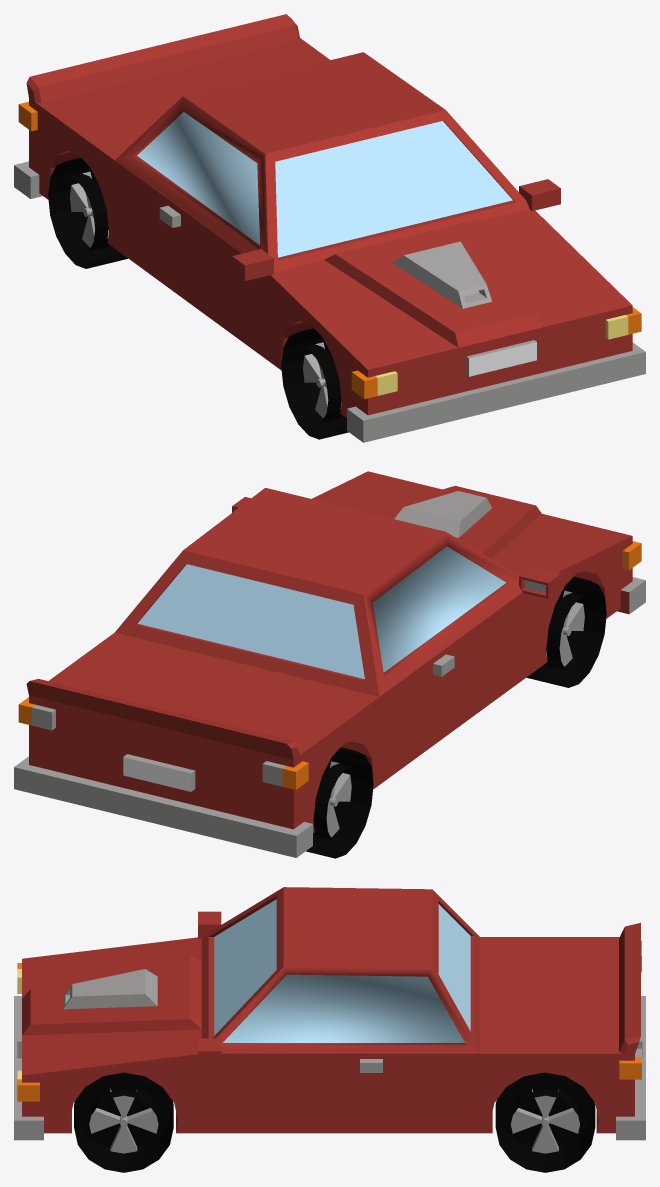
Rendered from vehicle.glb.
3 views of the same model, one above another, from view 1: azimuth 30°, elevation 25°; view 2: azimuth 150°, elevation 25°; view 3: azimuth 270°, elevation 25° (orthographic). The views are drawn at different scales.
Parts seen in each view (by area): view 1: chasis, wheel_back_right, wheel_front_right; view 2: chasis, wheel_front_right, wheel_back_right; view 3: chasis, wheel_back_left, wheel_front_left.
Boxes of the visible parts, box(x1,y1,x2,y2) form: chasis: box(14, 14, 645, 442); wheel_back_right: box(48, 157, 127, 268); wheel_front_right: box(281, 328, 348, 439); chasis: box(14, 471, 645, 857); wheel_front_right: box(526, 576, 606, 687); wheel_back_right: box(306, 747, 373, 858); chasis: box(14, 887, 645, 1140); wheel_back_left: box(495, 1072, 595, 1172); wheel_front_left: box(74, 1072, 173, 1172).
Bounding box in the file's own units: 0.7137 × 0.4447 × 1.37.
